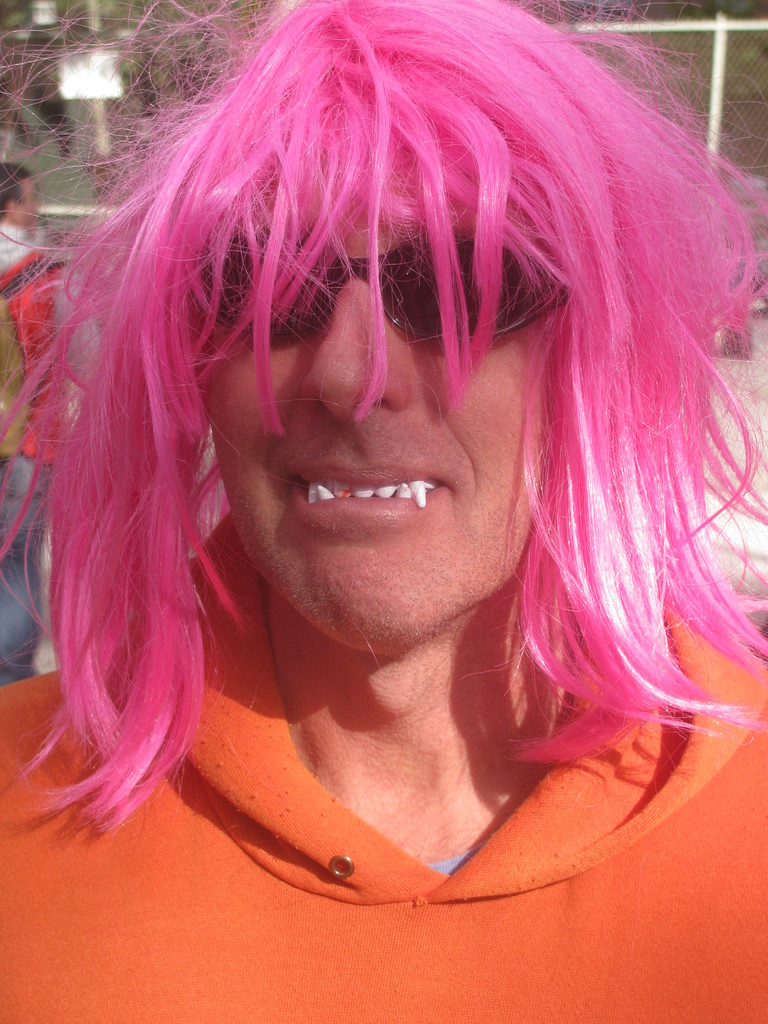Person: (0, 0, 768, 1024), (0, 162, 103, 688)
